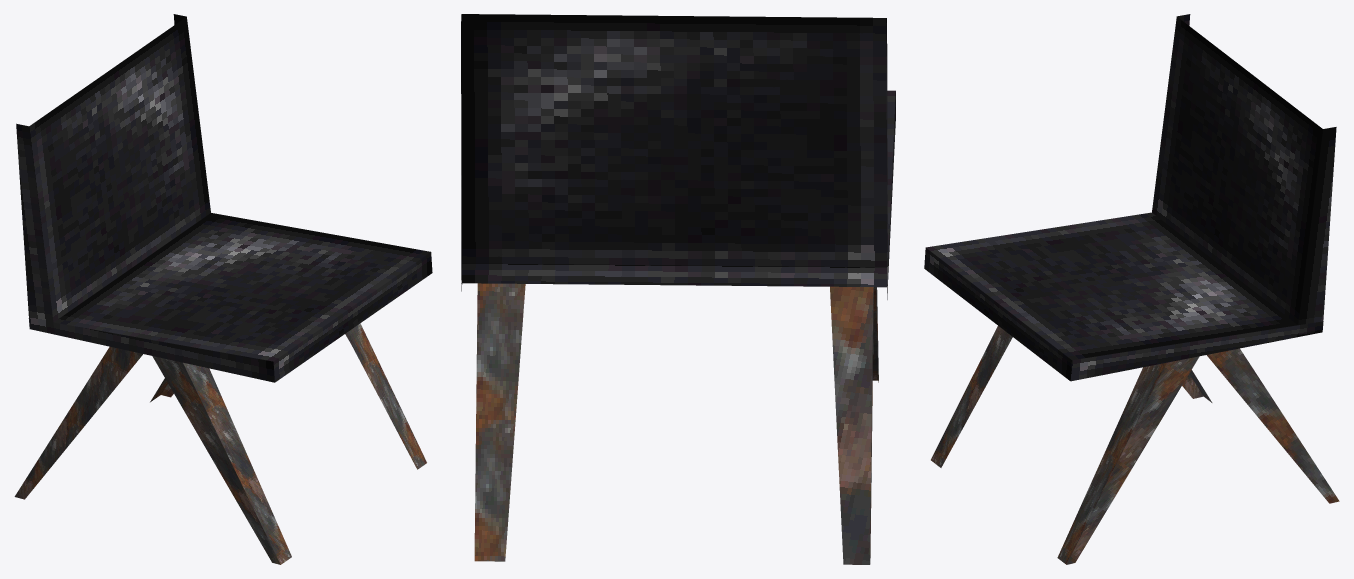
The model's file is frigate_black_chair_4.glb.
3 renders of one model, left to right at view 1: azimuth 30°, elevation 25°; view 2: azimuth 150°, elevation 25°; view 3: azimuth 270°, elevation 25°, orthographic. The views are drawn at different scales.
Visible parts, largest first — view 1: Object; view 2: Object; view 3: Object.
Part boxes in pixels (left/top/right/bottom): Object: left=14, top=14, right=432, bottom=564; Object: left=461, top=14, right=895, bottom=564; Object: left=924, top=14, right=1339, bottom=564.
Size of the model in its own units: 1.14 by 1.16 by 1.14.
Materials: 2 (2 with a texture image).
